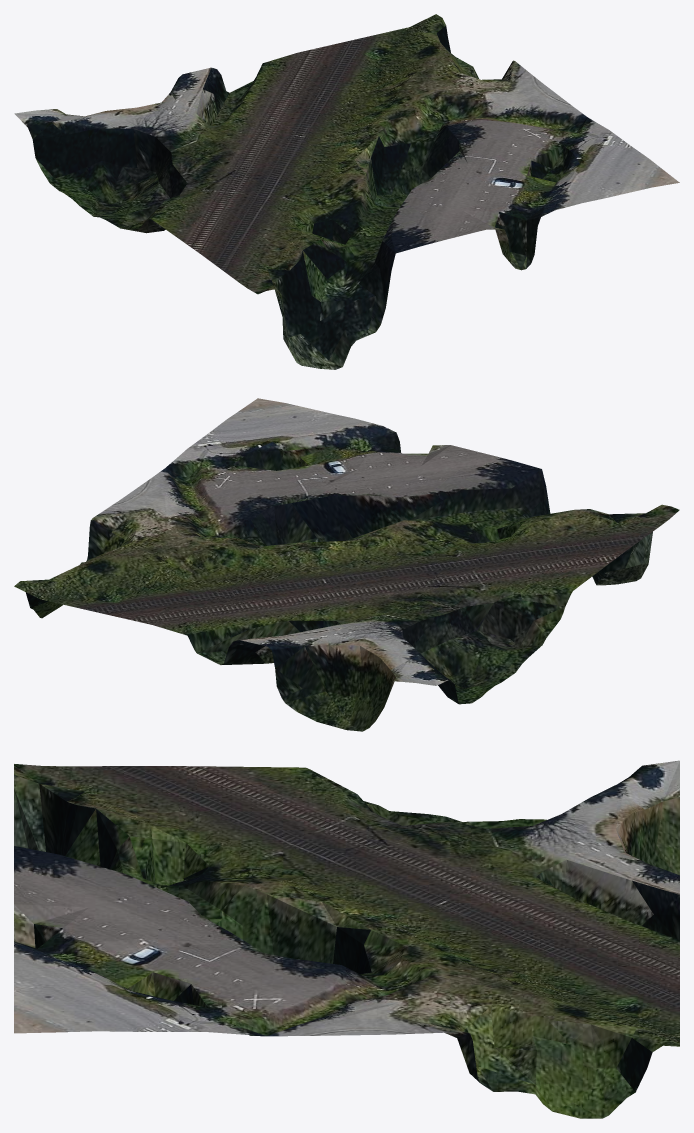
File: map_15_8183_13788.dae
3 views of the same model, one above another, from view 1: azimuth 30°, elevation 25°; view 2: azimuth 150°, elevation 25°; view 3: azimuth 270°, elevation 25° (orthographic). The views are drawn at different scales.
Parts seen in each view (by area): view 1: Ter0; view 2: Ter0; view 3: Ter0.
Boxes of the visible parts, box(x1,y1,x2,y2) form: Ter0: box(14, 14, 679, 369); Ter0: box(14, 398, 679, 731); Ter0: box(14, 760, 679, 1118).
Size of the model in its own units: 63.87 by 63.88 by 15.4.
Materials: 3 (3 with a texture image).
